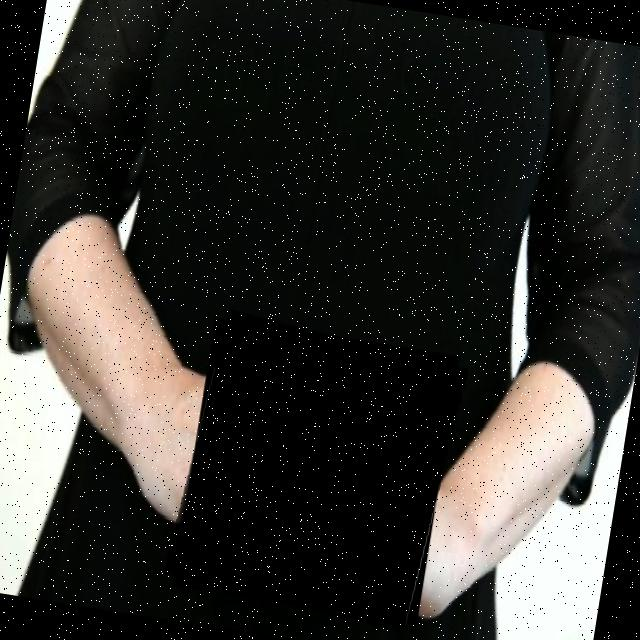X: (168, 313, 467, 632)
